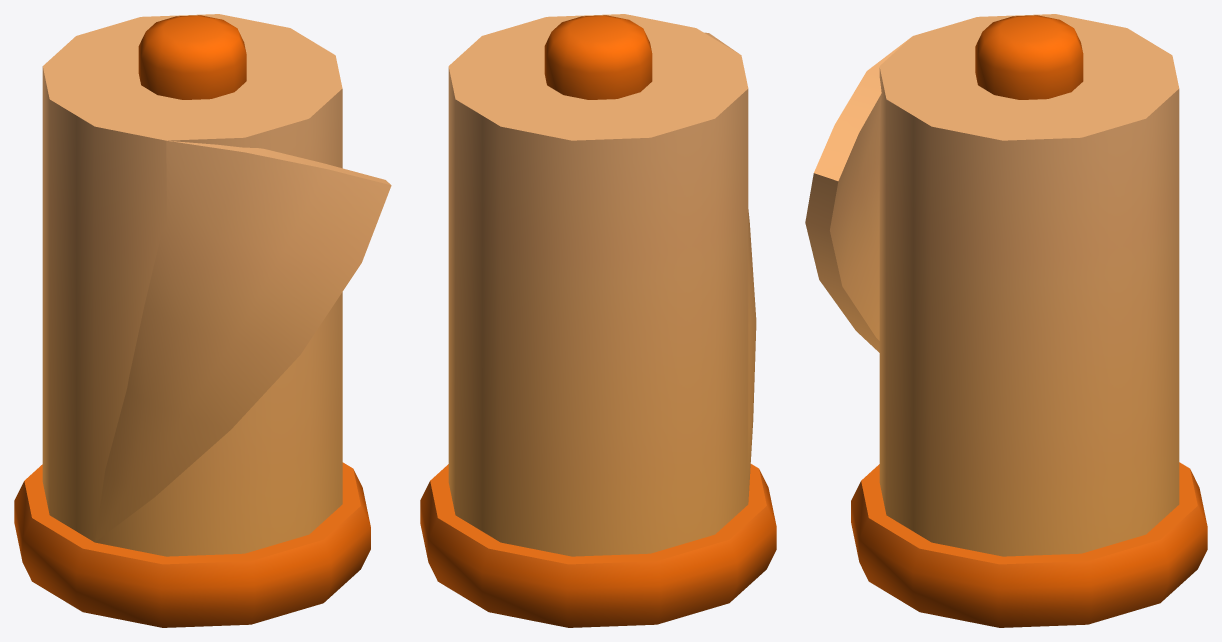
The model's file is Tissue_01_C02.fbx.
The picture shows the model from 3 angles, left to right: view 1: azimuth 30°, elevation 25°; view 2: azimuth 150°, elevation 25°; view 3: azimuth 270°, elevation 25°; orthographic projection.
Parts seen in each view (by area): view 1: Tissue_01_C02; view 2: Tissue_01_C02; view 3: Tissue_01_C02.
Boxes of the visible parts, <box> form: Tissue_01_C02: <box>14,14,391,627</box>; Tissue_01_C02: <box>420,14,776,627</box>; Tissue_01_C02: <box>805,14,1207,627</box>.
Bounding box in the file's own units: 43.36 × 70.83 × 48.94.
